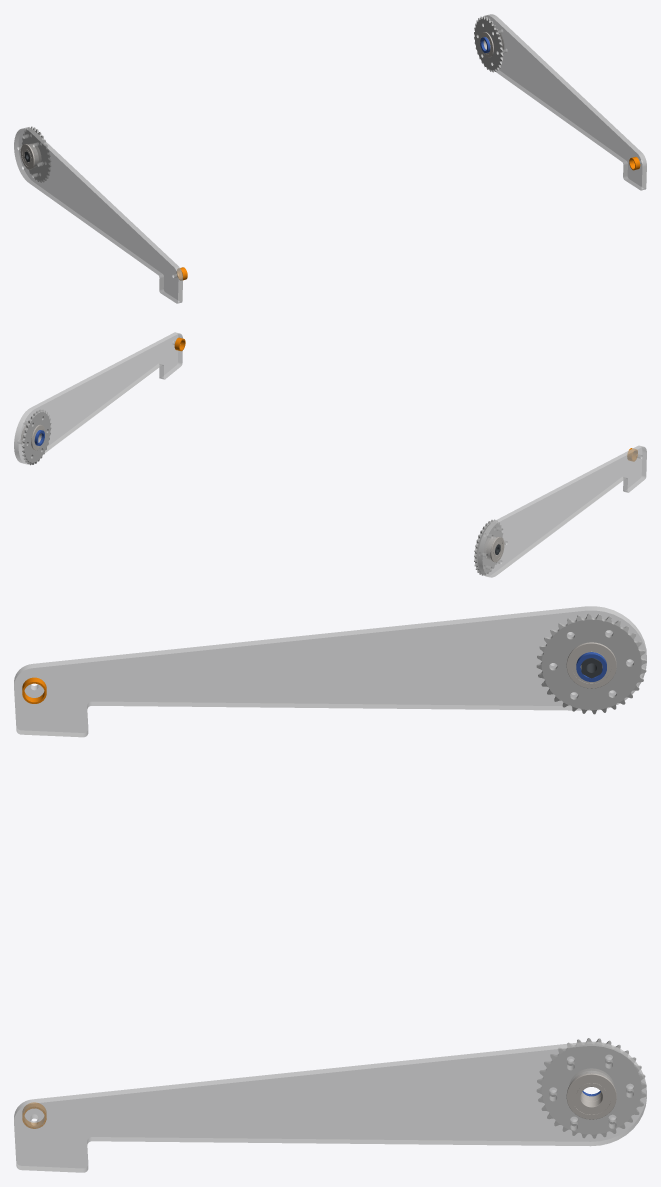
3 renders of one model, top to bottom at view 1: azimuth 30°, elevation 25°; view 2: azimuth 150°, elevation 25°; view 3: azimuth 270°, elevation 25°, orthographic. The views are drawn at different scales.
Visible parts, largest first — view 1: 1678-2025-B-0300 Coral Intake <1>, 32T 25 Chain Bearing Bore Sprocket (am-0233) (×2); view 2: 1678-2025-B-0300 Coral Intake <1>, 32T 25 Chain Bearing Bore Sprocket (am-0233) (×2); view 3: 1678-2025-B-0300 Coral Intake <1>, 32T 25 Chain Bearing Bore Sprocket (am-0233) (×2), Thunderhex ID 1.125 OD Flanged Bearing (217-4006) (×2).
Part boxes in pixels (x1,y1,x2,y2): 1678-2025-B-0300 Coral Intake <1>: (14, 14, 646, 303); 32T 25 Chain Bearing Bore Sprocket (am-0233) (×2): (22, 16, 503, 182); 1678-2025-B-0300 Coral Intake <1>: (14, 332, 646, 577); 32T 25 Chain Bearing Bore Sprocket (am-0233) (×2): (22, 409, 502, 575); 1678-2025-B-0300 Coral Intake <1>: (14, 606, 646, 1172); 32T 25 Chain Bearing Bore Sprocket (am-0233) (×2): (536, 613, 646, 1138); Thunderhex ID 1.125 OD Flanged Bearing (217-4006) (×2): (566, 642, 616, 1119).
Size of what is drawn, in the model's own units: 0.648 by 0.0867 by 0.3922.
